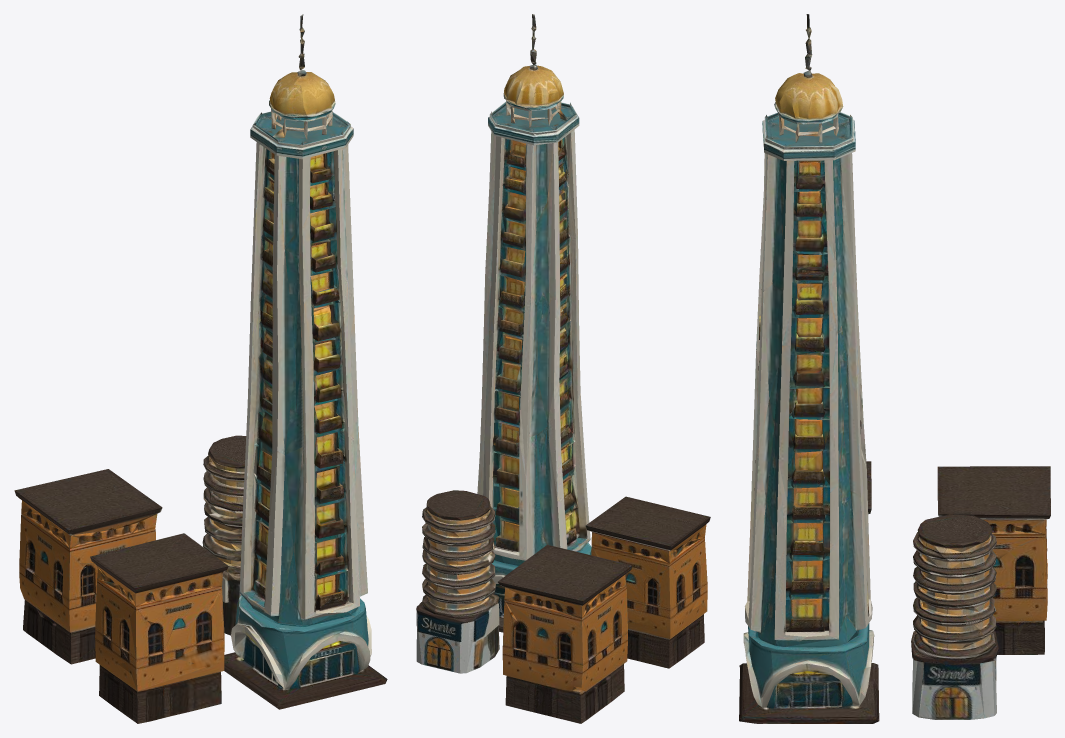
File: sky_tower.glb
The picture shows the model from 3 angles, left to right: view 1: azimuth 30°, elevation 25°; view 2: azimuth 150°, elevation 25°; view 3: azimuth 270°, elevation 25°; orthographic projection. The views are drawn at different scales.
Parts seen in each view (by area): view 1: Mesh_0; view 2: Mesh_0; view 3: Mesh_0.
Part boxes in pixels (x1,y1,x2,y2): Mesh_0: (14,14,387,723); Mesh_0: (416,14,710,723); Mesh_0: (739,14,1050,723).
Size of the model in its own units: 0.7168 by 1.9 by 0.7863.
1 material, 1 textured.
